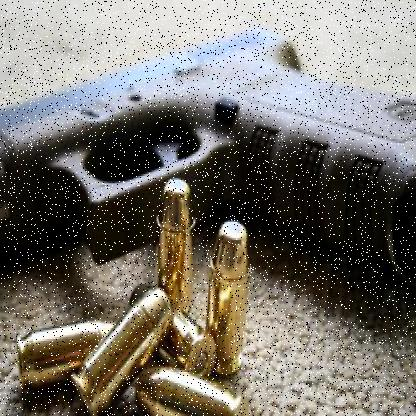pistol: (1, 29, 412, 308)
